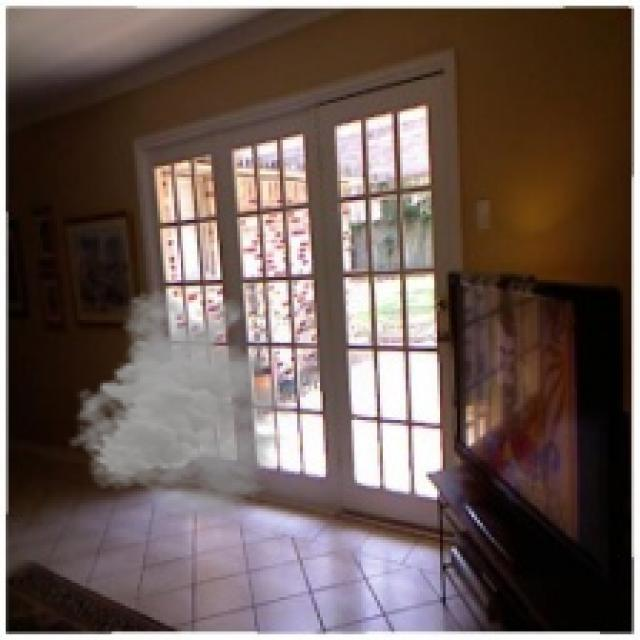Smoke: (66, 288, 306, 523)
